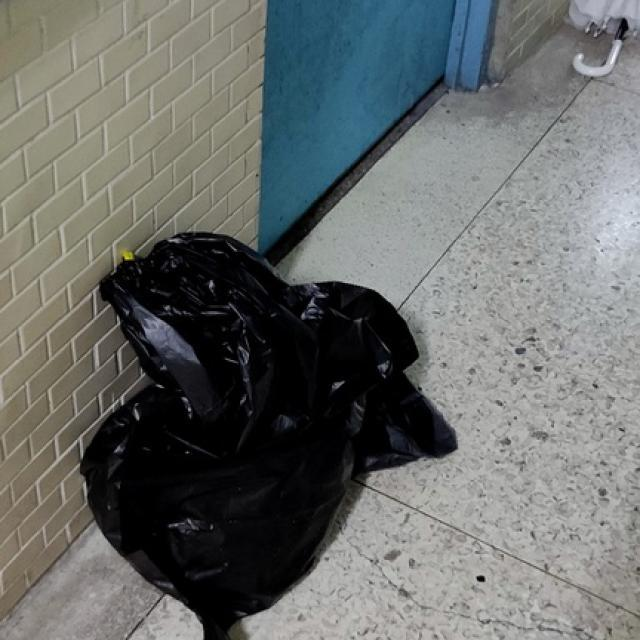Trashbag: (68, 203, 448, 606)
